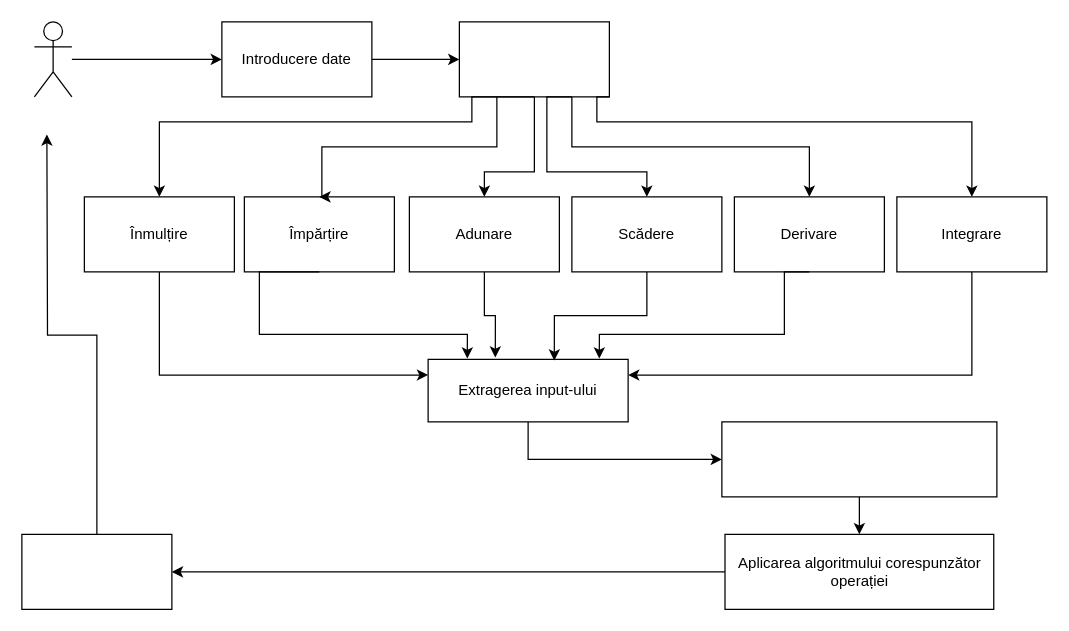
This 1069x631 diagram has some shape labels left out. Here are the shapes that lost their labels. From the top down, the centre of each, then its label:
At pixel 52 59: "User".
At pixel 533 59: "Selectarea operației dorite prin apăsarea unui buton".
At pixel 859 459: "Trecerea datelor de înput în date ușor de manipulat".
At pixel 96 571: "Afișarea rezultatului".
